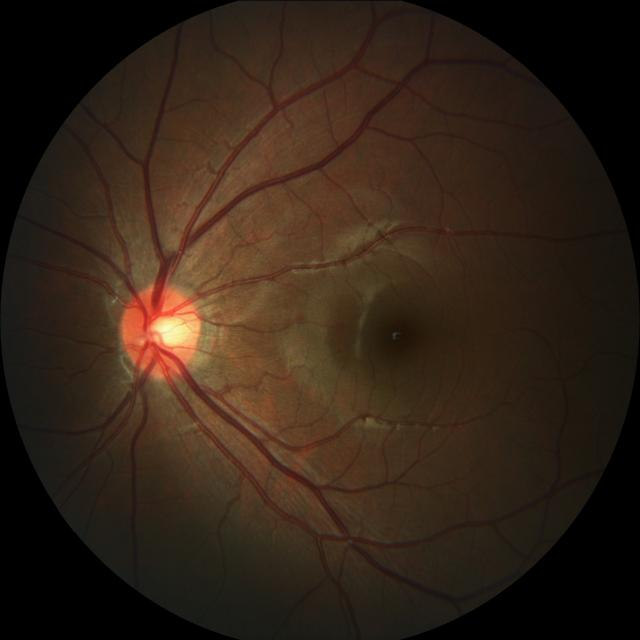OC: (147, 312, 190, 352)
OD: (122, 282, 204, 378)
